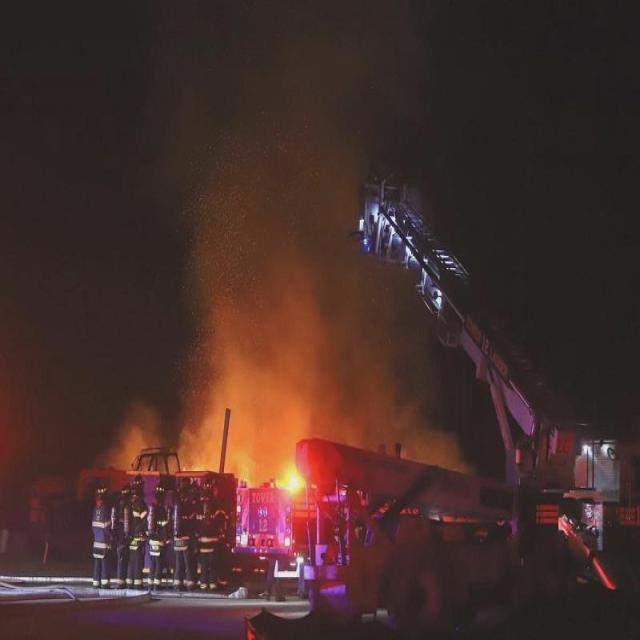Fire: (266, 456, 306, 494), (178, 440, 217, 472), (230, 449, 260, 487)
Smoke: (194, 178, 348, 446)
